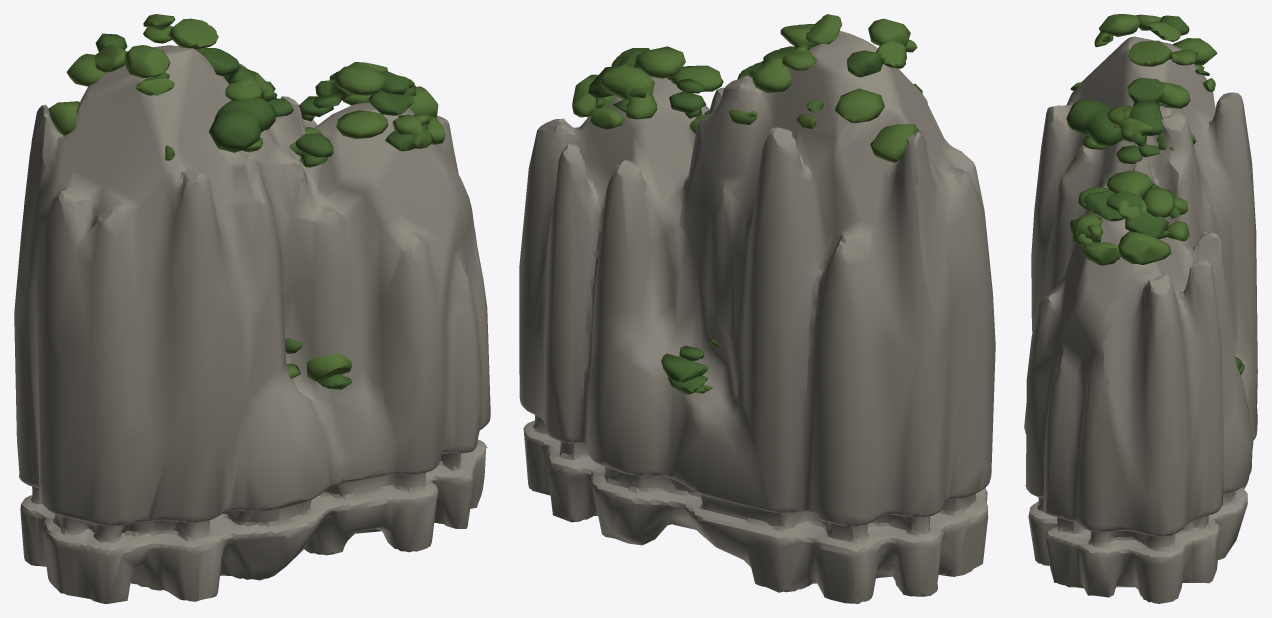
The model's file is karst-b.glb.
3 views of the same model, side by side, from view 1: azimuth 30°, elevation 25°; view 2: azimuth 150°, elevation 25°; view 3: azimuth 270°, elevation 25° (orthographic). The views are drawn at different scales.
Visible parts, largest first — view 1: rock_0, bush2_2, bush_1, bush2_4, bush_3; view 2: rock_0, bush2_4, bush2_2, bush_3, bush_1; view 3: rock_0, bush2_2, bush2_4, bush_1, bush_3.
Boxes of the visible parts, box(x1,y1,x2,y2) form: rock_0: box(14, 45, 490, 603); bush2_2: box(48, 18, 445, 381); bush_1: box(95, 33, 414, 353); bush2_4: box(125, 14, 438, 155); bush_3: box(165, 70, 428, 389); rock_0: box(519, 31, 995, 603); bush2_4: box(572, 14, 910, 393); bush2_2: box(611, 24, 918, 162); bush_3: box(588, 48, 922, 382); bush_1: box(595, 46, 882, 394); rock_0: box(1024, 36, 1257, 603); bush2_2: box(1072, 14, 1217, 265); bush2_4: box(1078, 14, 1215, 264); bush_1: box(1066, 15, 1244, 374); bush_3: box(1070, 69, 1242, 369).
Bounding box in the file's own units: 37.02 × 42.51 × 19.67.
